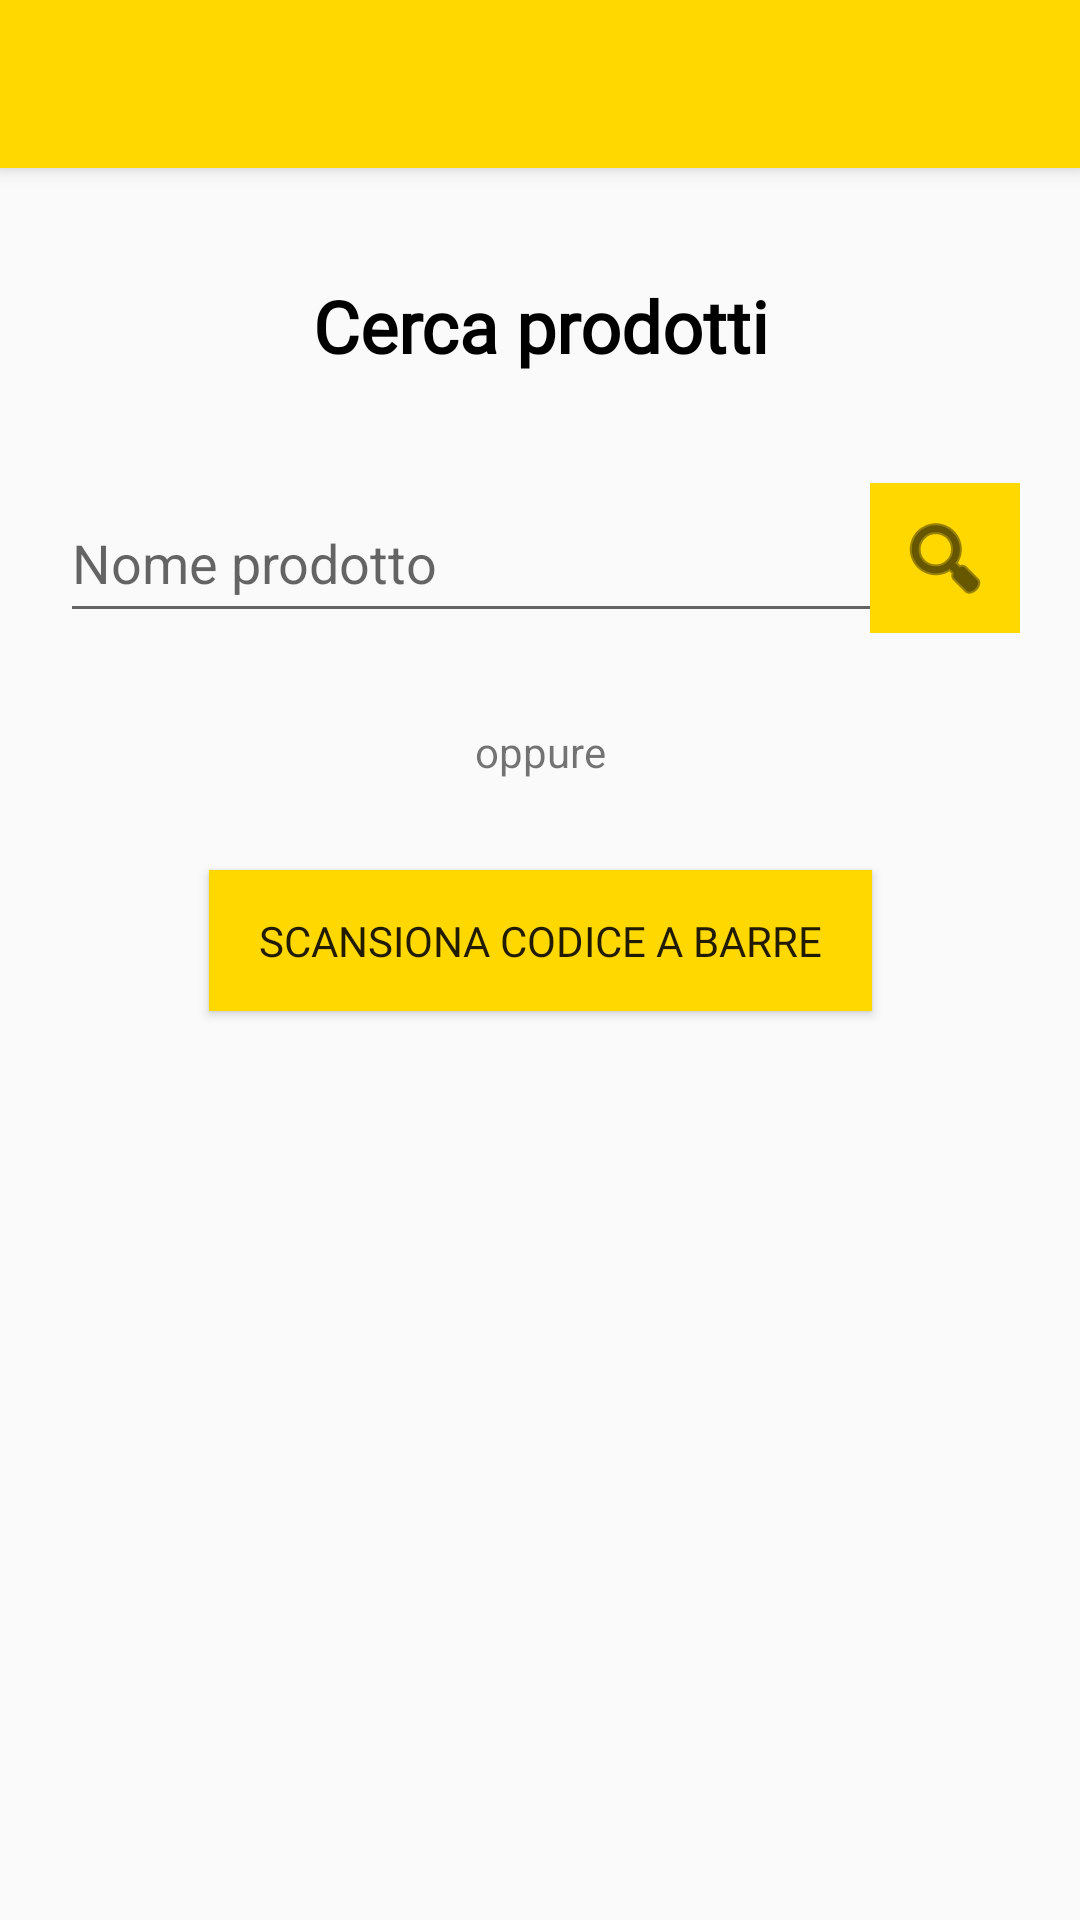

Icons on this 1080×1920 Android screen, each with the point to tap as [x,y]:
search: [945,558]
